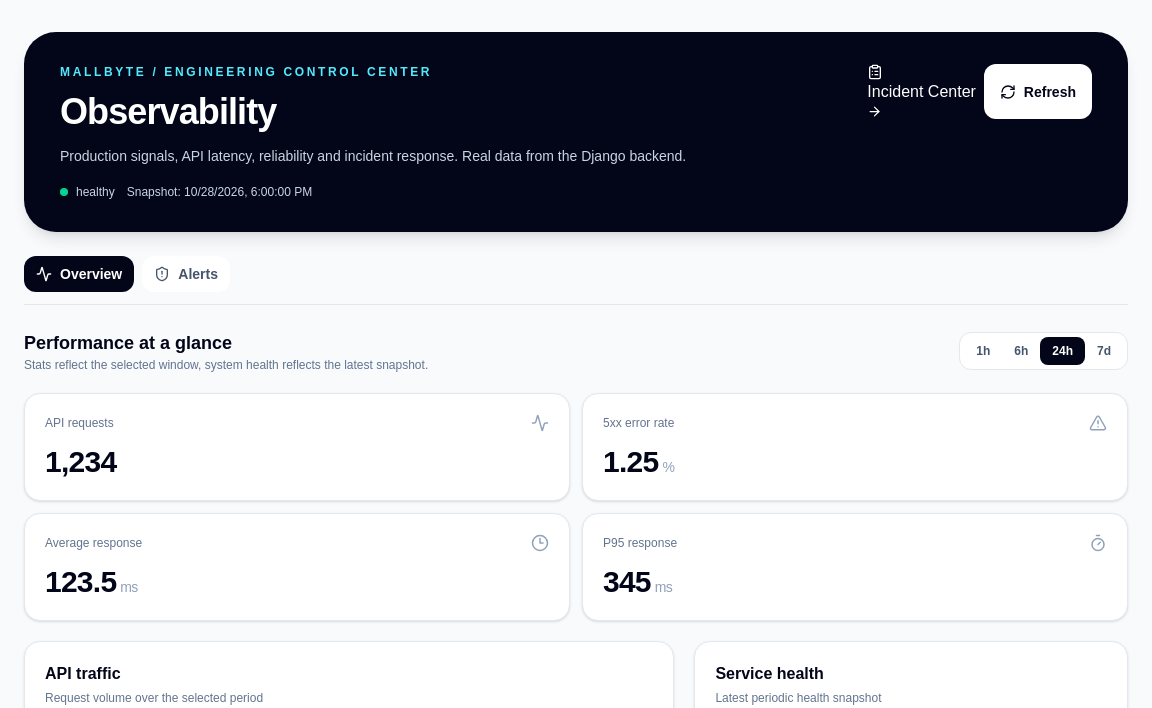
Scenario: Observability monitoring dashboard › viewer sees safe overview/alerts but no logs or audit tabs
The image size is (1152, 708).
expect the text "1,234" is shown: met, box 45,445 -> 116,478
Click the button "Alerts" at (186, 274), box 142,256 -> 230,292
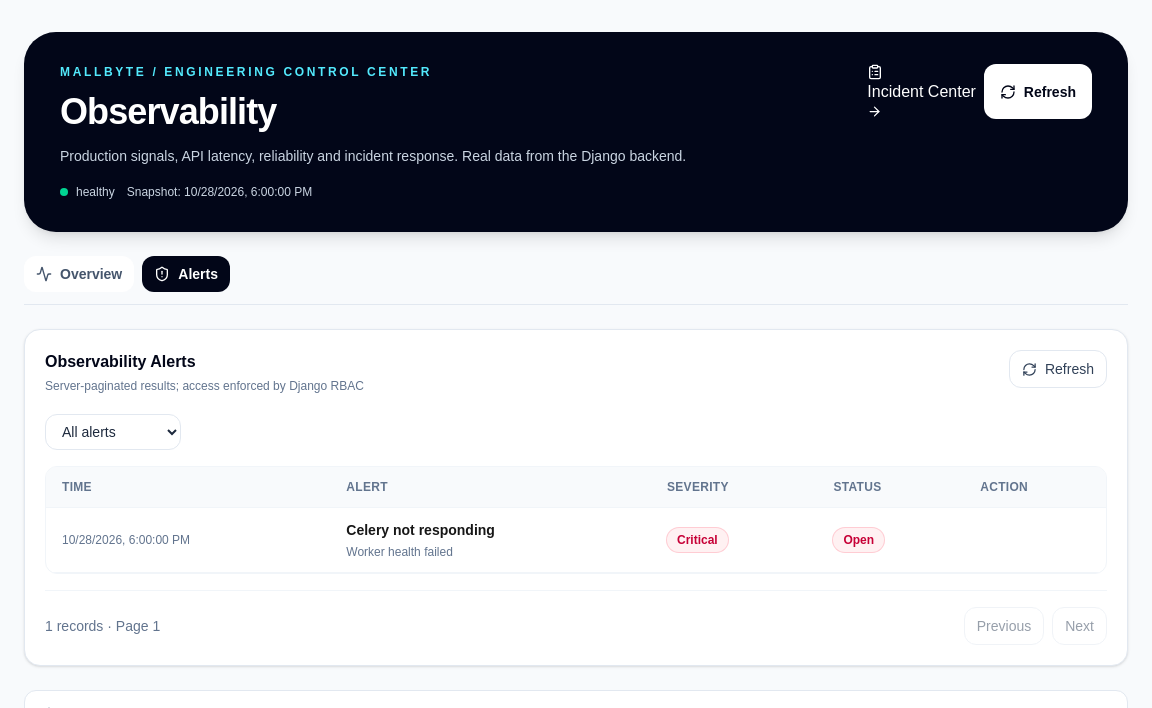
expect the text "Celery not responding" is shown: met, box 346,522 -> 495,538
